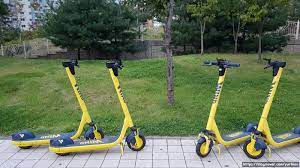kick_board: (50, 60, 145, 154), (11, 59, 103, 147)
kick_body: (75, 139, 118, 148), (35, 133, 77, 141)
kick_handler: (203, 58, 239, 68), (262, 59, 286, 72), (62, 59, 80, 70), (105, 60, 123, 71)
kick_neck: (111, 77, 132, 122), (68, 75, 89, 119)
kick_wheel: (243, 138, 265, 158), (51, 137, 71, 155), (12, 131, 32, 148), (196, 137, 212, 158), (126, 134, 146, 150), (85, 128, 104, 138)
